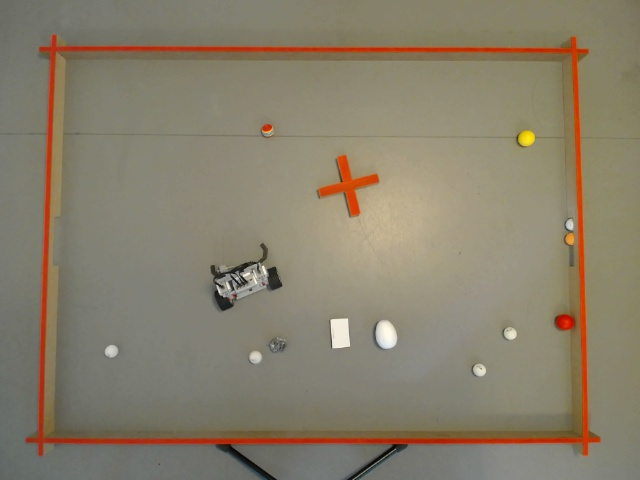big_goal: (566, 215, 574, 267), (51, 217, 59, 264)
cross: (318, 156, 380, 216)
egg: (376, 320, 397, 350)
orange: (564, 233, 576, 248)
robot: (208, 243, 282, 314)
wall: (54, 61, 571, 430)
white: (104, 345, 120, 360), (472, 363, 487, 378), (248, 351, 263, 365), (504, 327, 518, 341), (564, 216, 577, 231)
